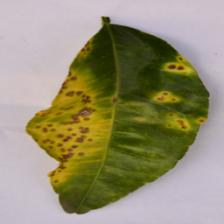canker: (25, 72, 199, 170)
